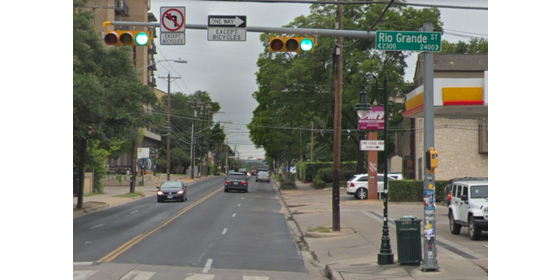except bicycle sign: (205, 27, 249, 43)
no left turn except bicycles: (158, 5, 189, 48)
one way arrow sign: (207, 13, 249, 27)
street name sign: (375, 29, 445, 53)
